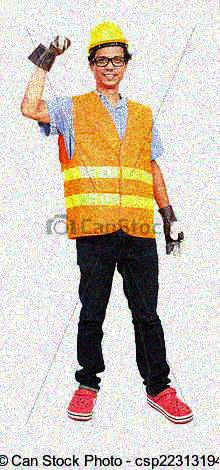helmet: (86, 20, 133, 87)
